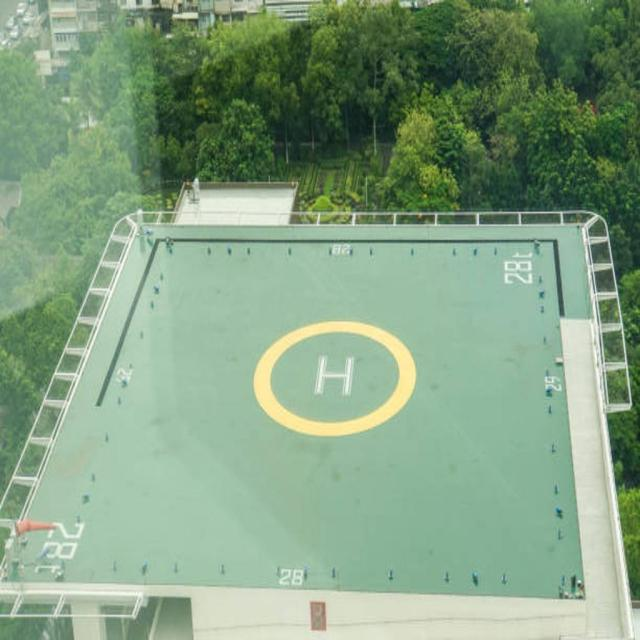helipad: (251, 319, 416, 436)
